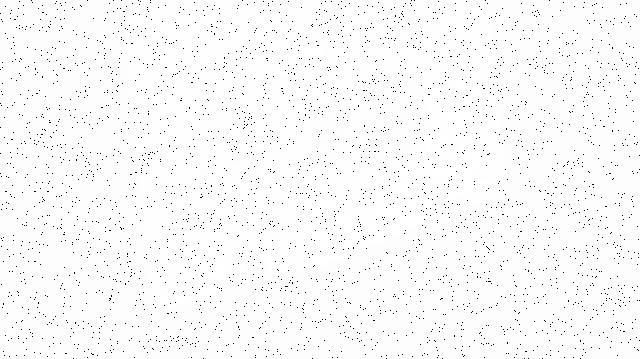pot: (323, 64, 429, 165)
